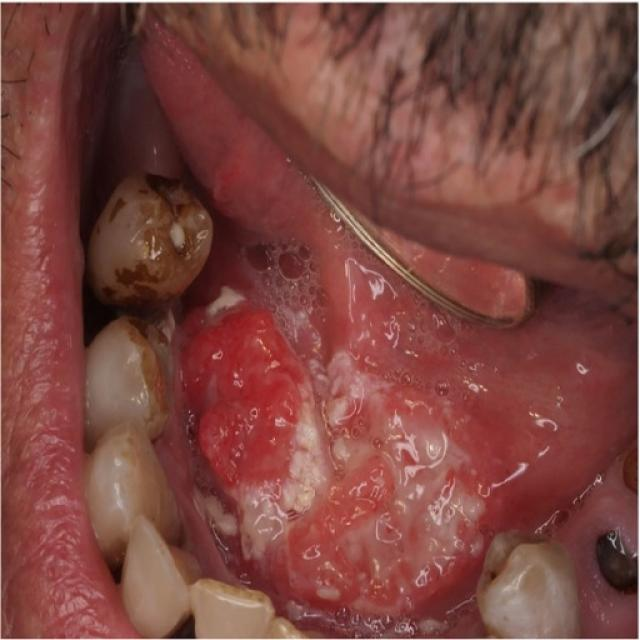cancer-detection: (165, 278, 507, 639)
processing_area: (79, 23, 637, 639)
